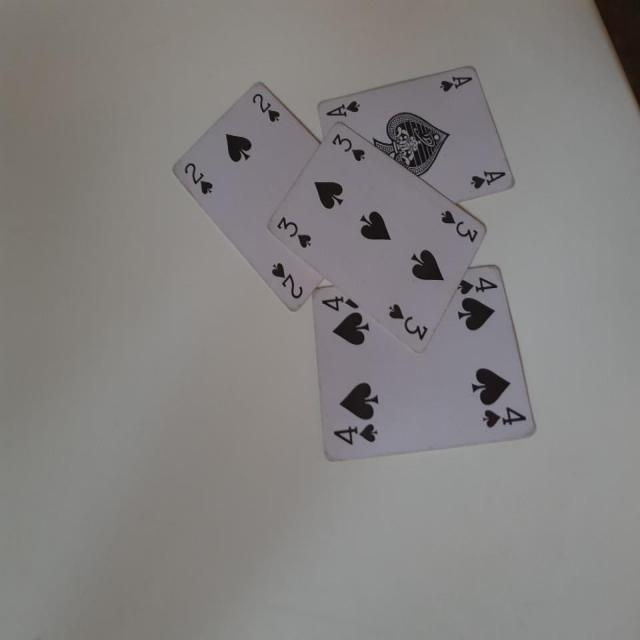2 Spades: (181, 92, 307, 314)
3 Spades: (271, 133, 483, 350)
4 Spades: (312, 276, 538, 454)
A Spades: (319, 68, 512, 200)
